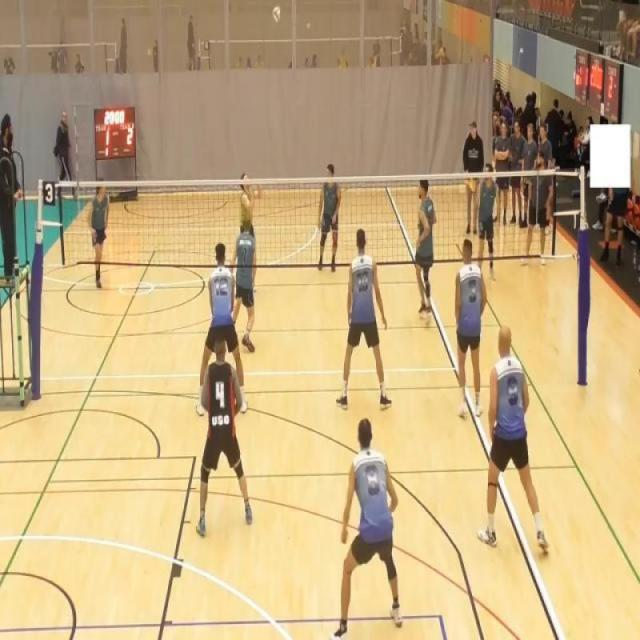volleyball: (272, 4, 281, 23), (306, 22, 310, 30)
